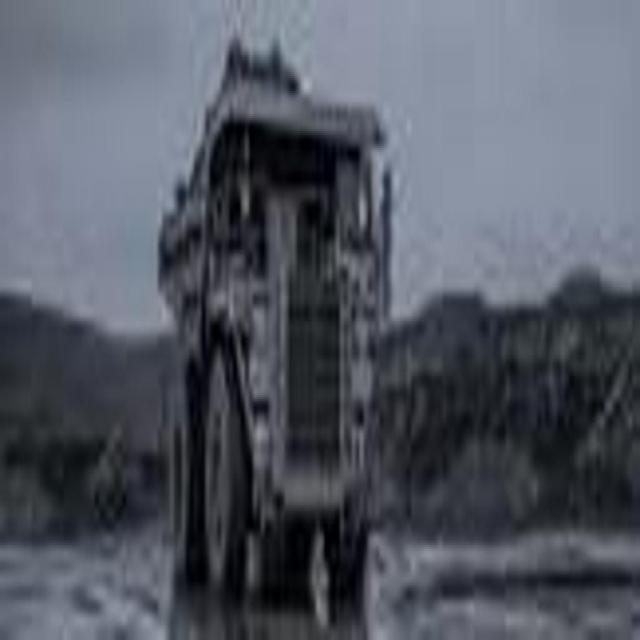dump_truck: (150, 28, 394, 640)
